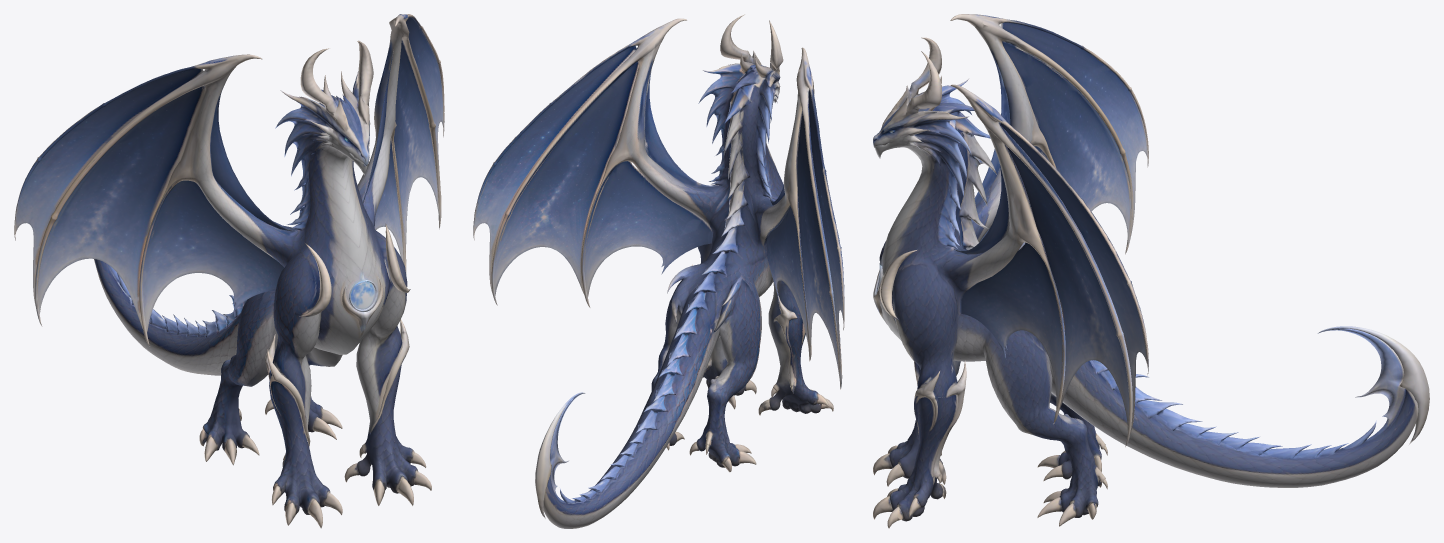
File: boss-garden-20.glb
The picture shows the model from 3 angles, left to right: view 1: azimuth 30°, elevation 25°; view 2: azimuth 150°, elevation 25°; view 3: azimuth 270°, elevation 25°; orthographic projection. The views are drawn at different scales.
Visible parts, largest first — view 1: tripo_node_bf085db5-13a1-4141-b666-9d3c97cf985d; view 2: tripo_node_bf085db5-13a1-4141-b666-9d3c97cf985d; view 3: tripo_node_bf085db5-13a1-4141-b666-9d3c97cf985d.
Part boxes in pixels (<box>): tripo_node_bf085db5-13a1-4141-b666-9d3c97cf985d: <box>14,14,444,528</box>; tripo_node_bf085db5-13a1-4141-b666-9d3c97cf985d: <box>473,14,844,528</box>; tripo_node_bf085db5-13a1-4141-b666-9d3c97cf985d: <box>873,14,1429,528</box>.
Size of the model in its own units: 0.8872 by 0.8989 by 0.9995.
Materials: 1 (1 with a texture image).
